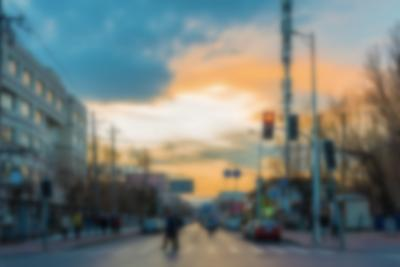International Road Signal Light: (261, 111, 275, 139)
